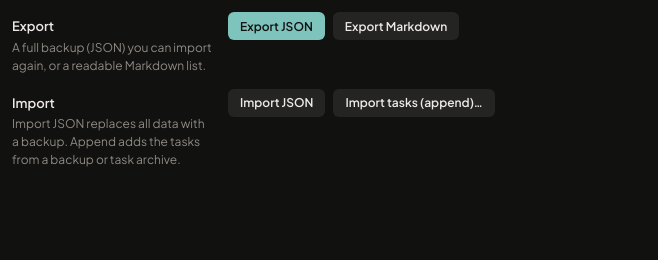
Test case: Settings → Import / Export — Export JSON self-check › saves the file and shows a persistent warning naming the bad row
Click the button "Export JSON".
click(276, 26)  # box [228, 12, 325, 40]
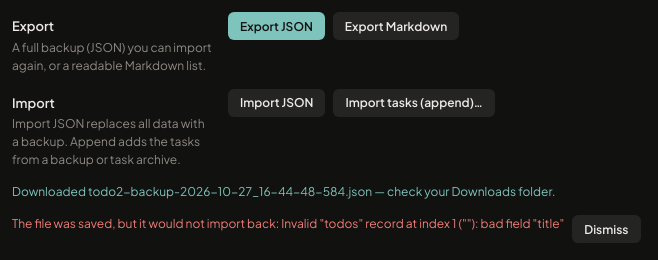
Check: the message with test id "export-self-check-warning" shows "would not import back", box [12, 216, 281, 231]
Check: the message with test id "export-self-check-warning" shows "Invalid \"todos\" record at index 1", box [281, 216, 564, 231]
Check: the message with test id "export-self-check-warning" shows "bad field \"title\"", box [281, 216, 564, 231]
Click the button "Dismiss".
click(606, 229)  # box [572, 215, 640, 243]
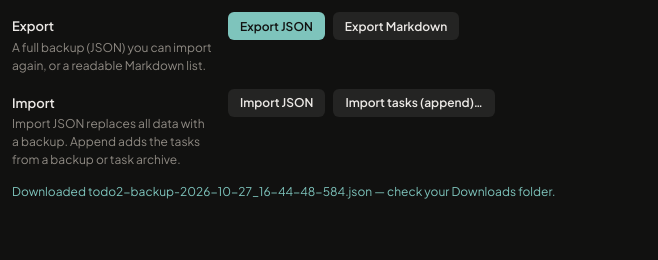
Check: the message with test id "export-self-check-warning" is gone
